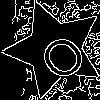O: (29, 24, 91, 85)
